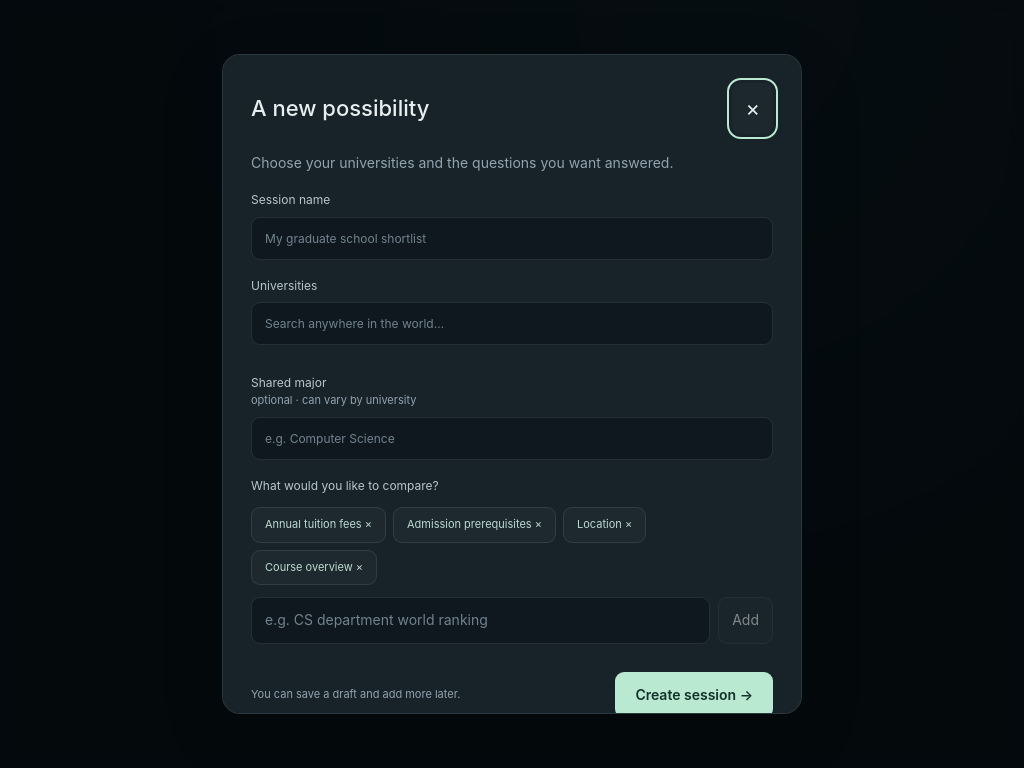
it: session setup › shows a recoverable server error
Click the button "Create session →" at coordinates (694, 695), box [615, 672, 773, 718]
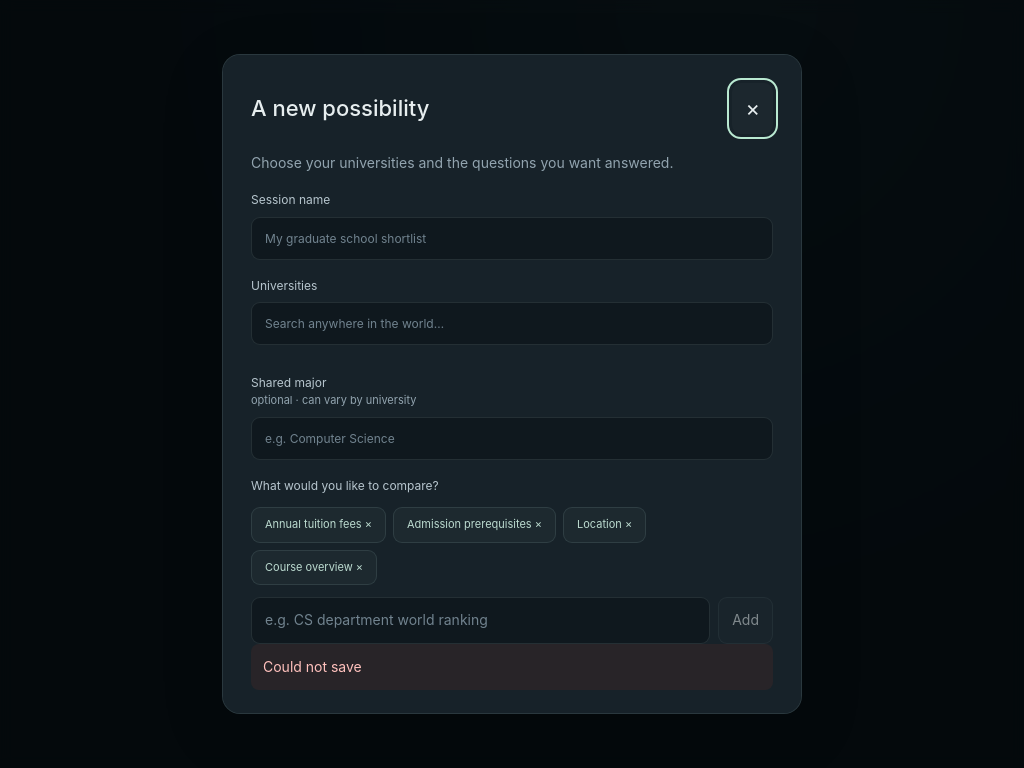
Expected: the message reads "Could not save", [263, 658, 362, 675]
